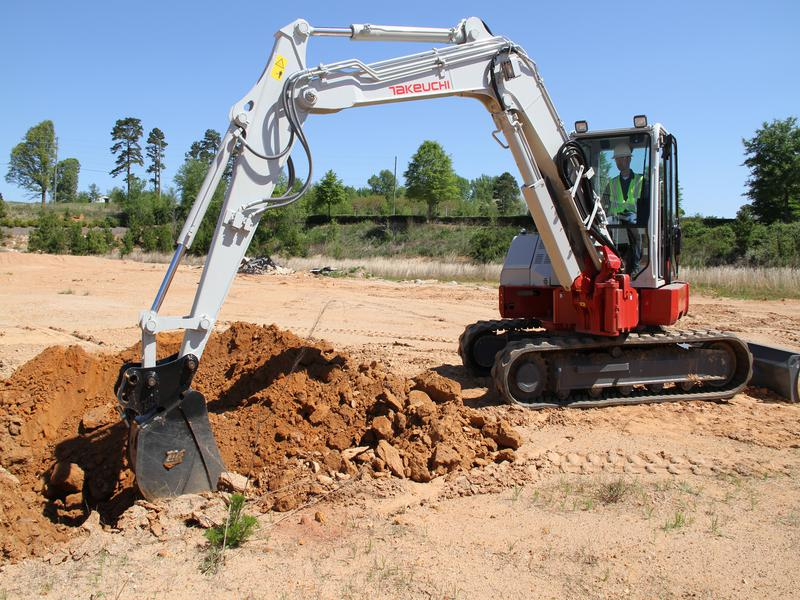shovel: (110, 11, 737, 512)
